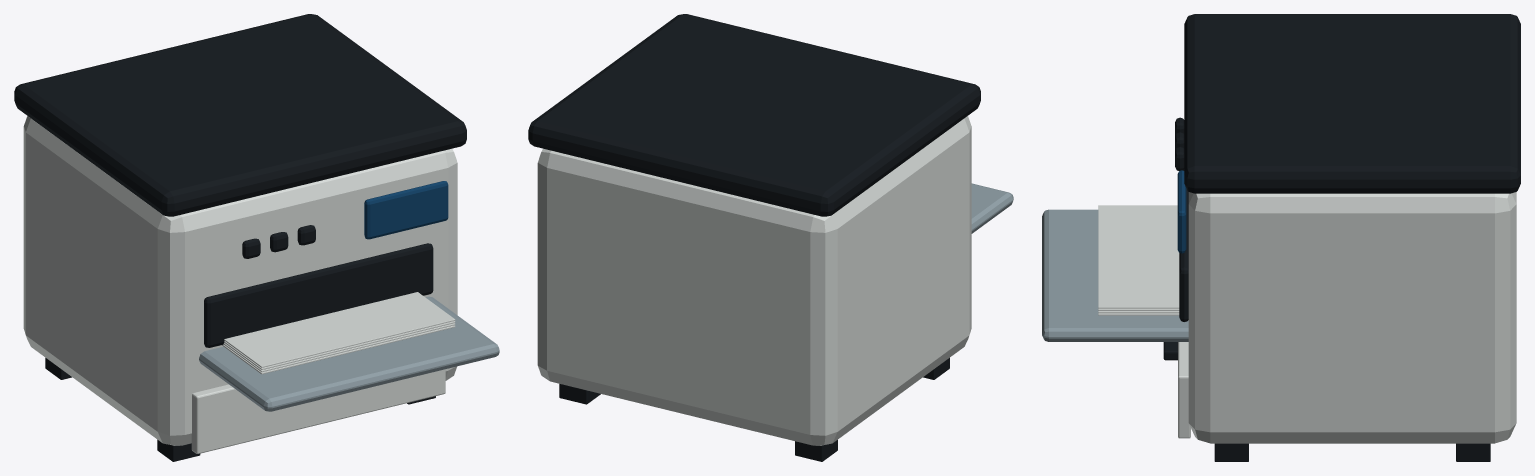
3 renders of one model, left to right at view 1: azimuth 30°, elevation 25°; view 2: azimuth 150°, elevation 25°; view 3: azimuth 270°, elevation 25°, orthographic. The views are drawn at different scales.
Parts seen in each view (by area): view 1: BODY, SCANNER_Lid, OUTPUT_Tray, OUTPUT_Slot, PAPER_Drawer, PAPER_Sheet.003, CONTROL_Display, PAPER_Sheet, PAPER_Sheet.001, PAPER_Sheet.002, FOOT_Pad; view 2: BODY, SCANNER_Lid, OUTPUT_Tray, FOOT_Pad.001, FOOT_Pad.003; view 3: BODY, SCANNER_Lid, OUTPUT_Tray, PAPER_Sheet.003, PAPER_Drawer, OUTPUT_Slot, CONTROL_Display, FOOT_Pad.003, FOOT_Pad.002.
Boxes of the visible parts, x1,y1,x2,y2 form: BODY: (23, 116, 457, 445); SCANNER_Lid: (14, 14, 466, 216); OUTPUT_Tray: (199, 296, 499, 411); OUTPUT_Slot: (204, 243, 433, 347); PAPER_Drawer: (191, 369, 445, 453); PAPER_Sheet.003: (224, 292, 455, 367); CONTROL_Display: (364, 181, 448, 239); PAPER_Sheet: (222, 325, 455, 374); PAPER_Sheet.001: (223, 323, 455, 372); PAPER_Sheet.002: (224, 321, 455, 369); FOOT_Pad: (157, 439, 200, 461); BODY: (537, 116, 971, 445); SCANNER_Lid: (528, 14, 980, 216); OUTPUT_Tray: (971, 183, 1013, 233); FOOT_Pad.001: (795, 440, 837, 461); FOOT_Pad.003: (559, 384, 600, 404); BODY: (1188, 192, 1516, 443); SCANNER_Lid: (1184, 14, 1520, 193); OUTPUT_Tray: (1042, 209, 1188, 341); PAPER_Sheet.003: (1098, 205, 1179, 308); PAPER_Drawer: (1178, 342, 1190, 438); OUTPUT_Slot: (1179, 169, 1188, 321); CONTROL_Display: (1177, 170, 1186, 253); FOOT_Pad.003: (1456, 443, 1490, 461); FOOT_Pad.002: (1214, 443, 1248, 461).
Size of the model in its own units: 0.44 by 0.3875 by 0.555.
